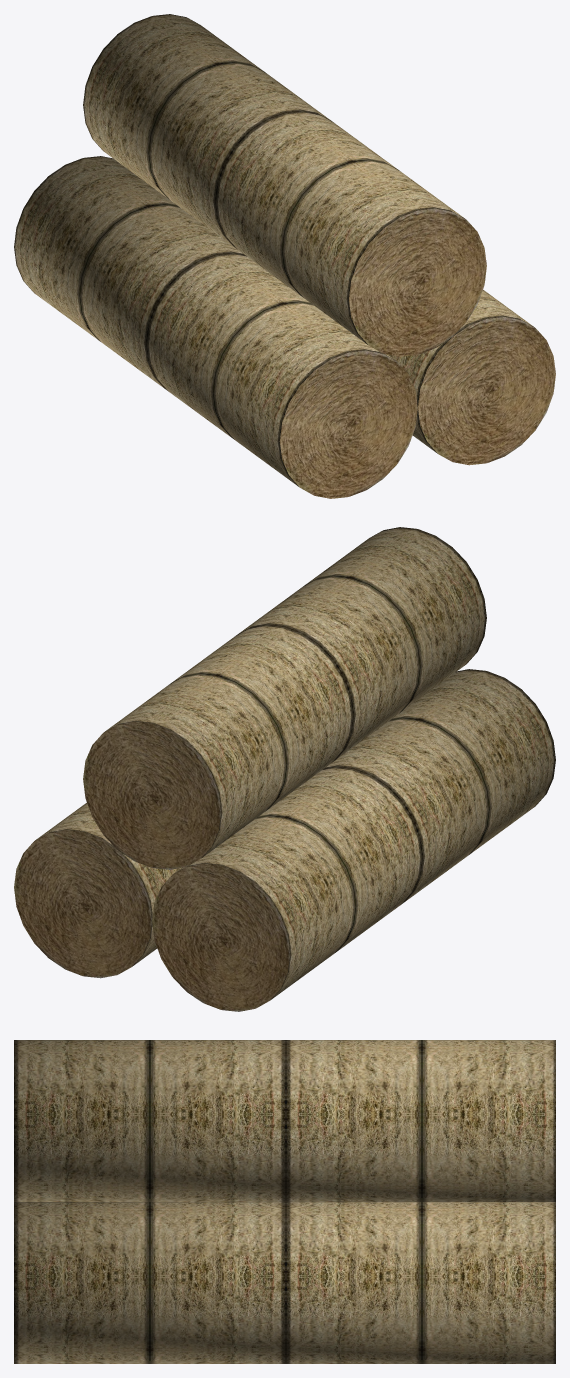
The model's file is hay-bale-straw-3x4-cbj_LOD00.gltf.
3 views of the same model, one above another, from view 1: azimuth 30°, elevation 25°; view 2: azimuth 150°, elevation 25°; view 3: azimuth 270°, elevation 25° (orthographic).
Visible parts, largest first — view 1: Cube; view 2: Cube; view 3: Cube.
Part boxes in pixels (x1,y1,x2,y2): Cube: (14, 14, 555, 498); Cube: (14, 527, 555, 1011); Cube: (14, 1040, 555, 1363).
Size of the model in its own units: 3.6 by 3.36 by 6.
